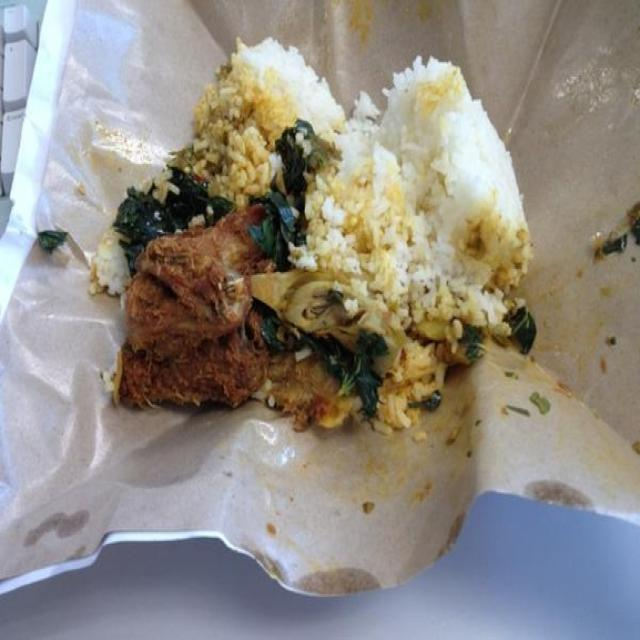米饭主食: (28, 2, 629, 594)
